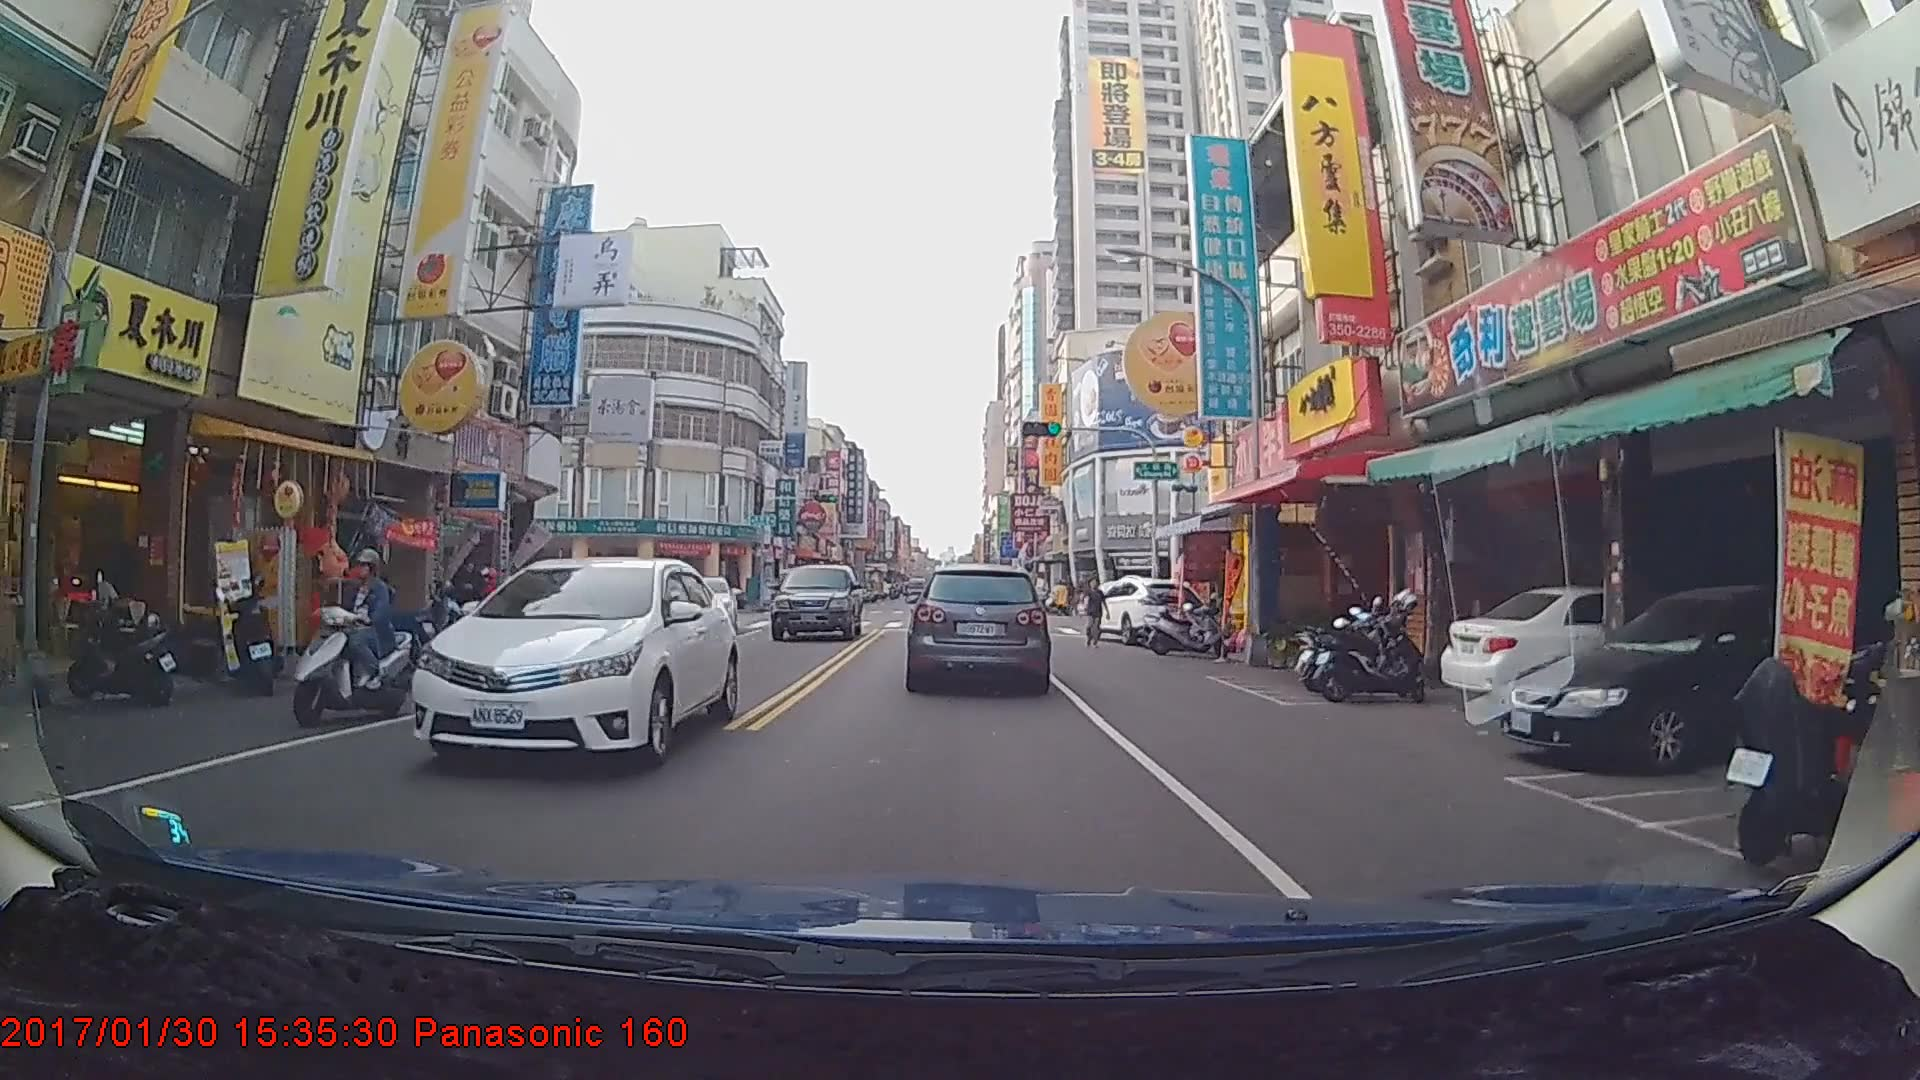pedestrian: (1083, 578, 1107, 651)
rider: (282, 551, 414, 732)
vehicle: (1498, 578, 1898, 774), (412, 546, 742, 769), (907, 562, 1048, 690), (1081, 575, 1210, 644), (770, 563, 865, 644), (903, 577, 928, 604)
